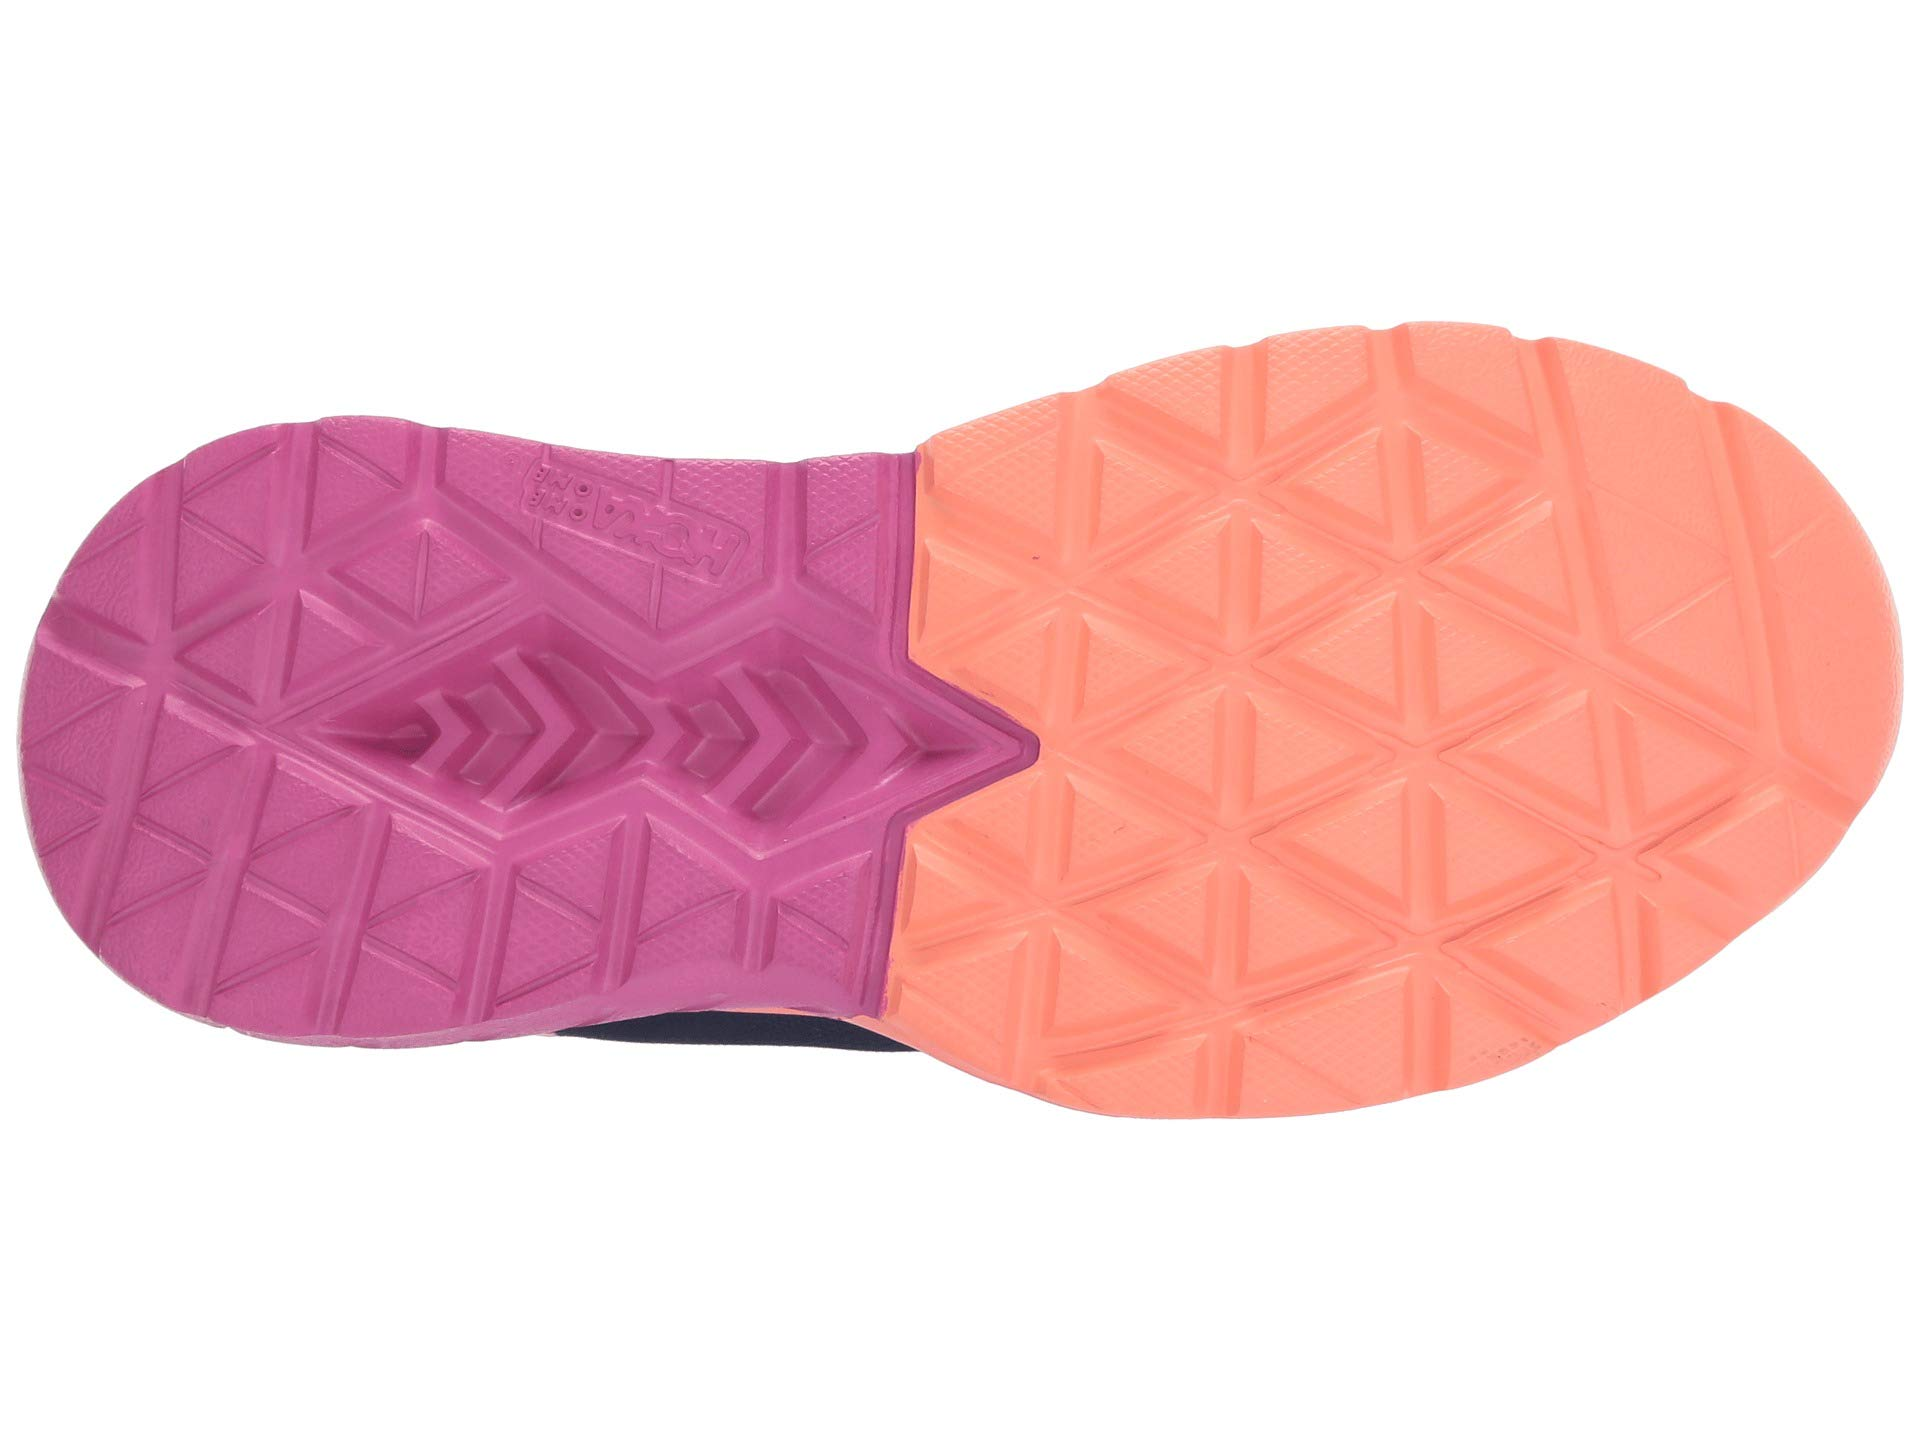triangle: (1197, 405, 1598, 794)
